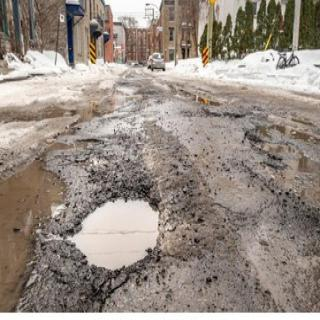pothole: (72, 200, 158, 271)
